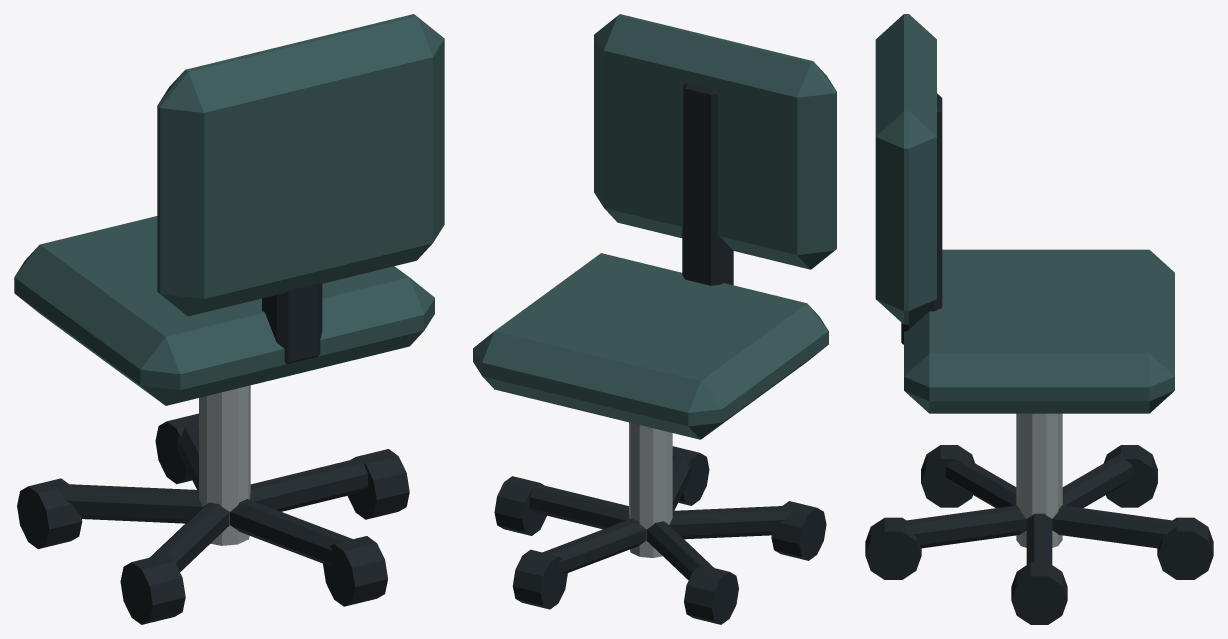
Rendered from office-chair-CokR8c4U.glb.
3 views of the same model, side by side, from view 1: azimuth 30°, elevation 25°; view 2: azimuth 150°, elevation 25°; view 3: azimuth 270°, elevation 25° (orthographic). The views are drawn at different scales.
Visible parts, largest first — view 1: chair column; view 2: chair column; view 3: chair column.
Part boxes in pixels (x1,y1,x2,y2): chair column: [14, 14, 444, 624]; chair column: [473, 14, 836, 624]; chair column: [865, 14, 1213, 624].
Size of the model in its own units: 0.6225 by 1.06 by 0.6806.
